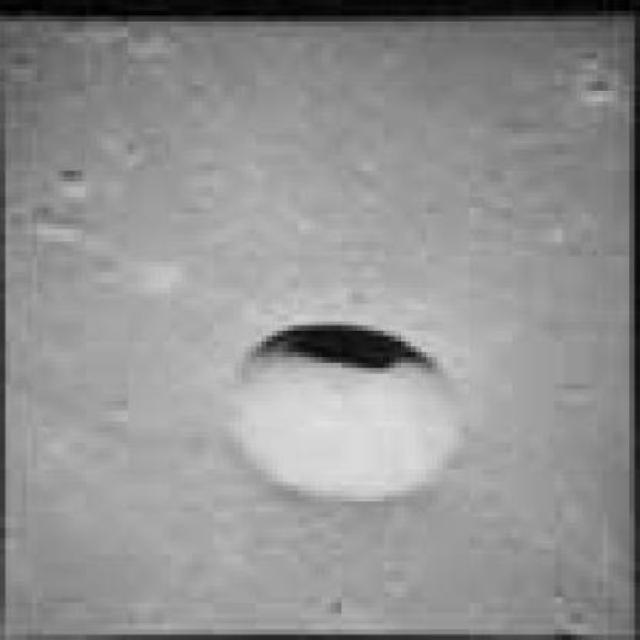crater: (231, 323, 466, 495)
